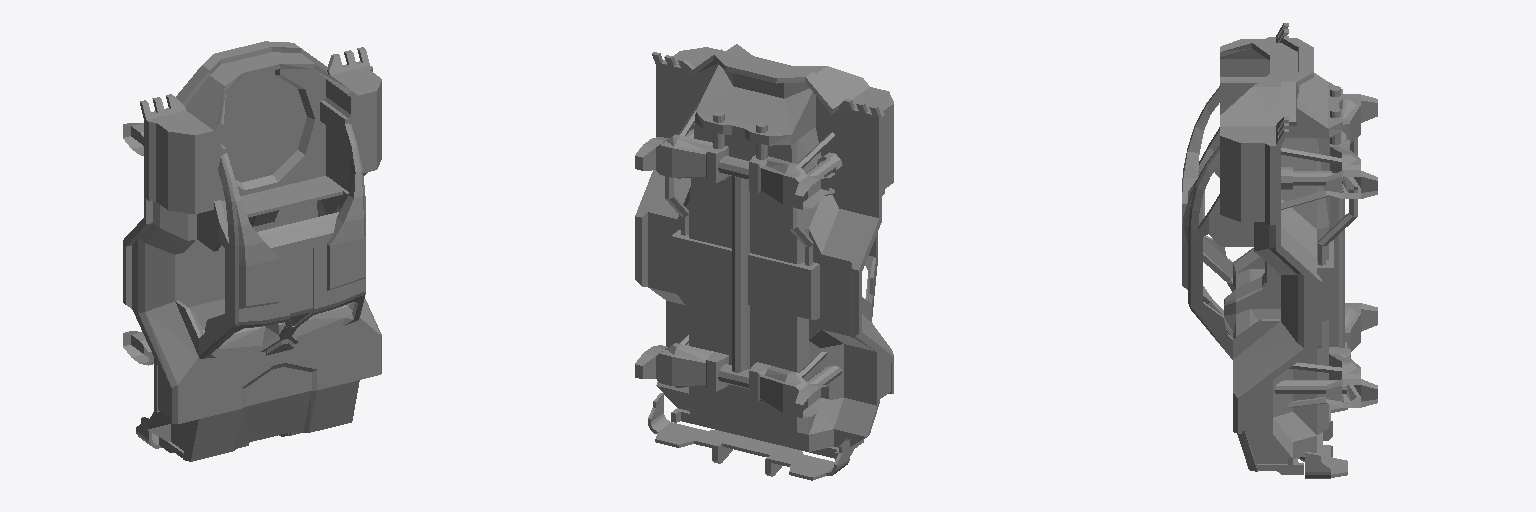
Rendered from chassis.obj.
3 views of the same model, side by side, from view 1: azimuth 30°, elevation 25°; view 2: azimuth 150°, elevation 25°; view 3: azimuth 270°, elevation 25° (orthographic).
Bounding box in the file's own units: 3.18 × 5.32 × 2.42.